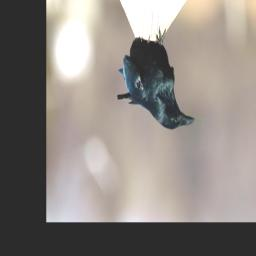Crow: (117, 29, 195, 130)
